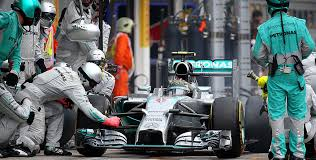FormulaOneCar: (76, 48, 270, 160)
